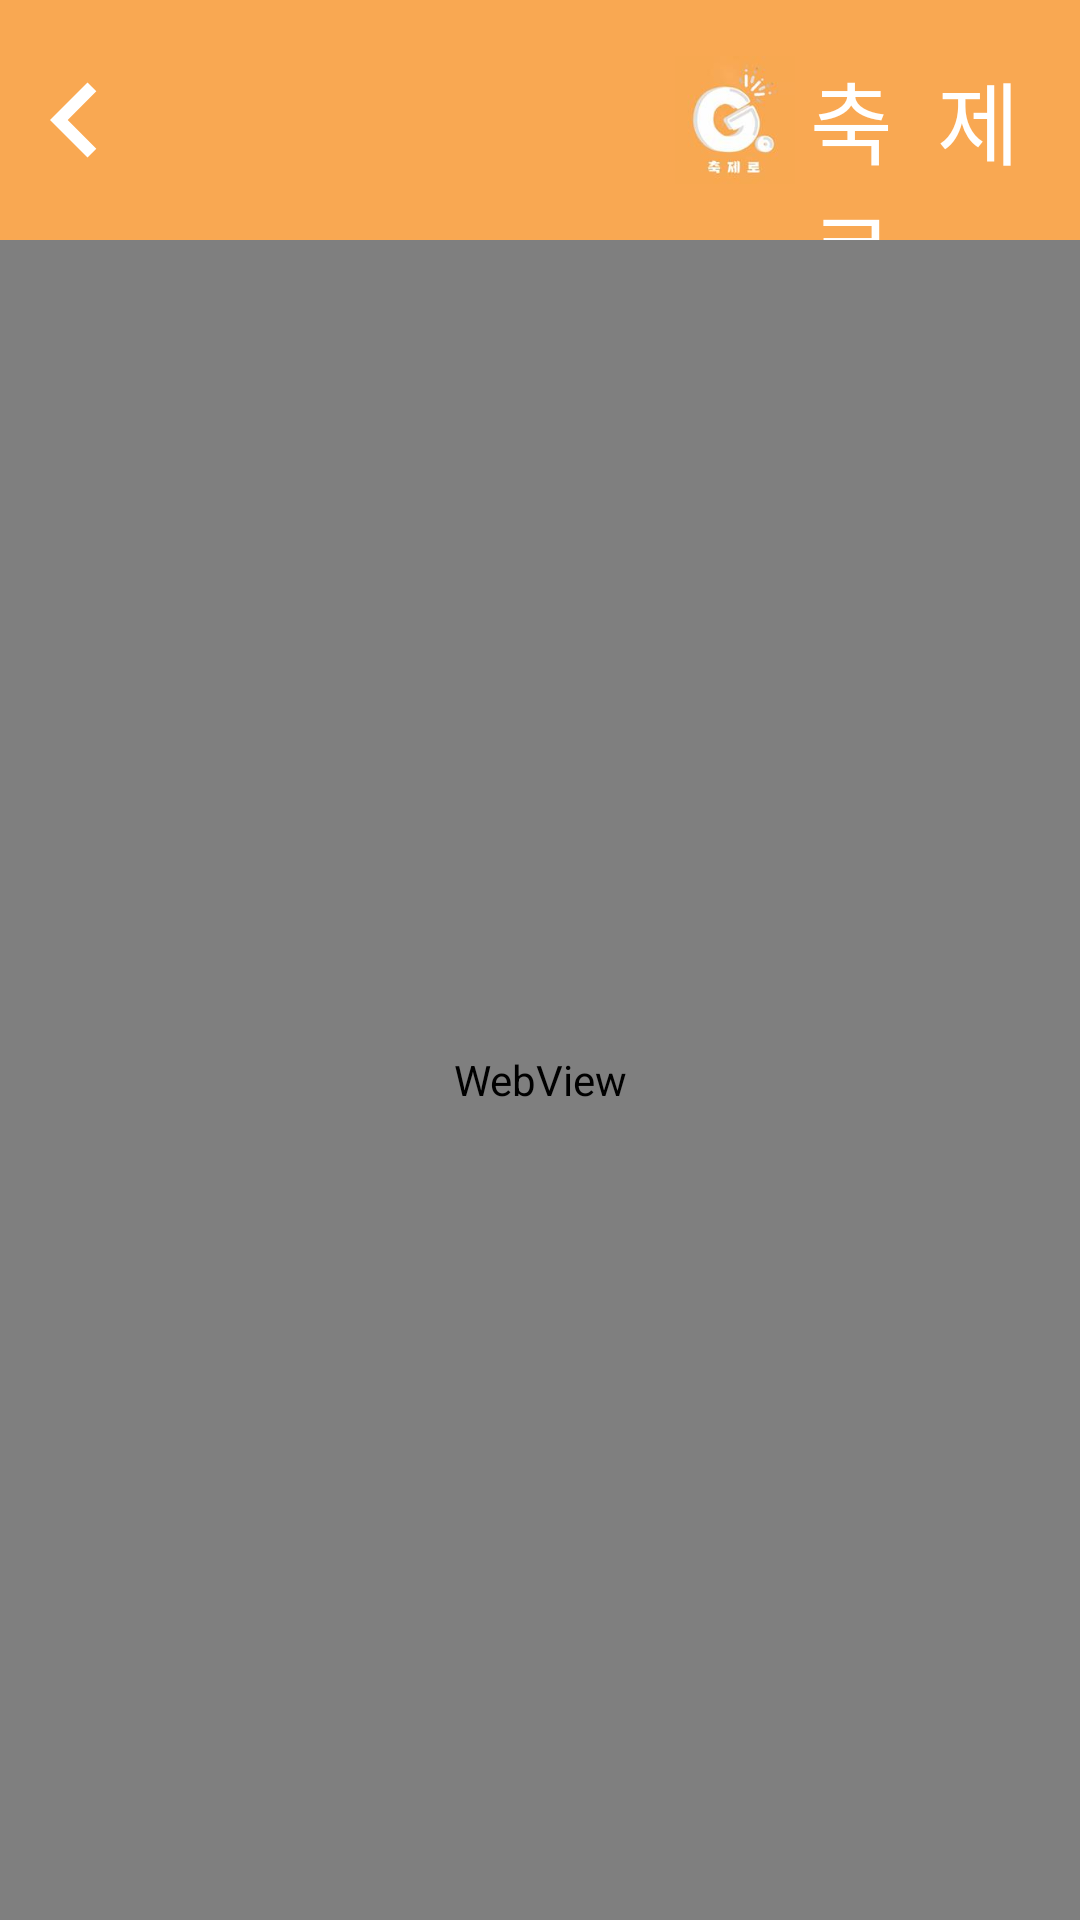

Icons on this 1080*1920 Android screen, each with its box as {"left": x1, "top": y1, "right": x2, "bottom": y2}:
navigate before: {"left": 50, "top": 82, "right": 96, "bottom": 158}
